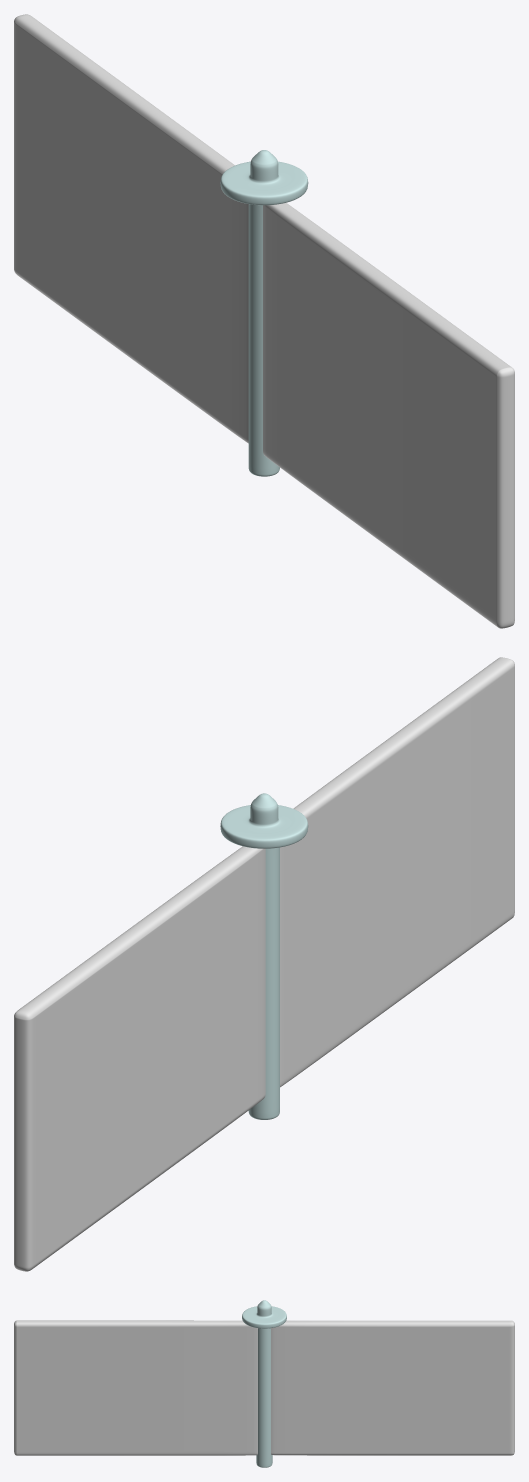
File: OnlyMesh.fbx
3 views of the same model, one above another, from view 1: azimuth 30°, elevation 25°; view 2: azimuth 150°, elevation 25°; view 3: azimuth 270°, elevation 25° (orthographic). The views are drawn at different scales.
Visible parts, largest first — view 1: Cube.001, Cube, Cylinder; view 2: Cube, Cube.001, Cylinder; view 3: Cube.001, Cube, Cylinder.
Boxes of the visible parts, x1,y1,x2,y2 form: Cube.001: (263,203,514,628); Cube: (14,14,248,443); Cylinder: (220,150,308,476); Cube: (14,846,265,1271); Cube.001: (280,657,514,1087); Cylinder: (220,793,308,1119); Cube.001: (14,1320,257,1455); Cube: (271,1320,514,1455); Cylinder: (242,1300,286,1467).
Size of the model in its own units: 133 by 537 by 1484.
